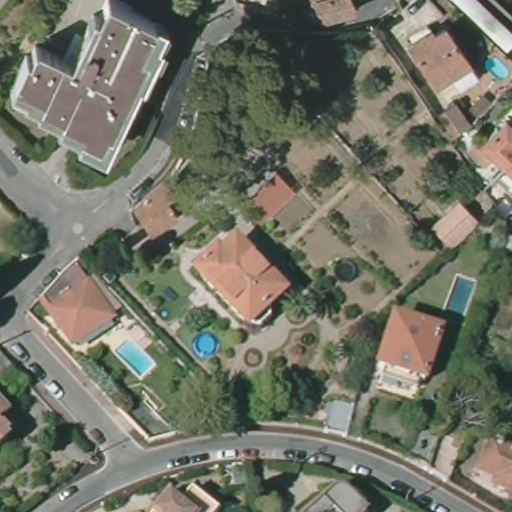pool: (113, 336, 157, 380), (444, 272, 477, 326), (191, 330, 221, 360), (484, 53, 510, 82)
